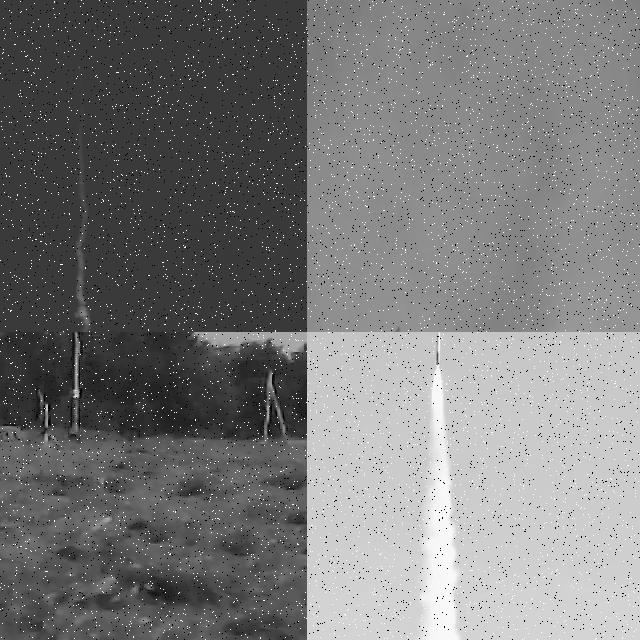Rocket: (67, 332, 81, 435), (34, 388, 46, 421), (435, 332, 440, 365), (390, 324, 401, 332), (78, 66, 81, 69)
